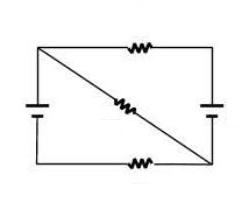resistor: (109, 85, 144, 121), (119, 32, 161, 59), (117, 151, 160, 173)
